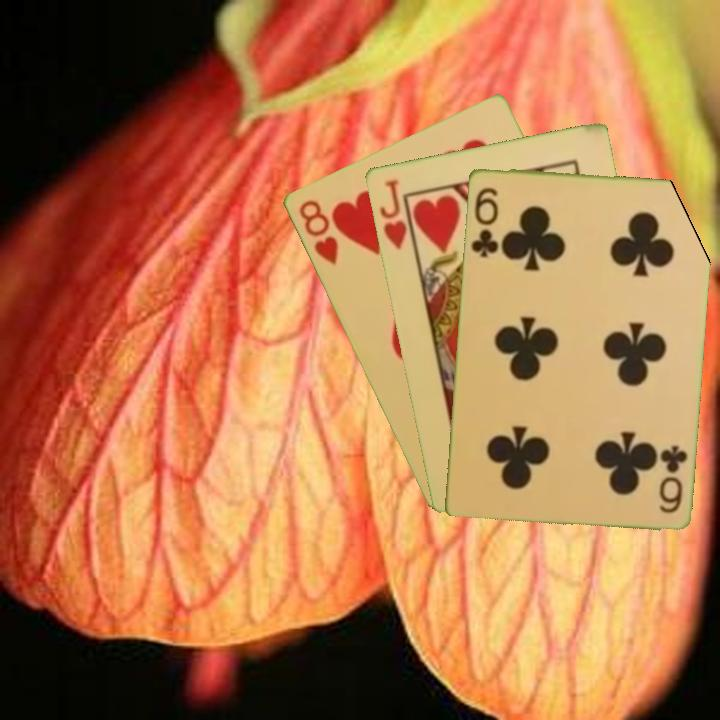6c: (467, 183, 501, 260), (655, 441, 689, 515)
8h: (294, 196, 341, 268)
Jh: (375, 175, 409, 252)
